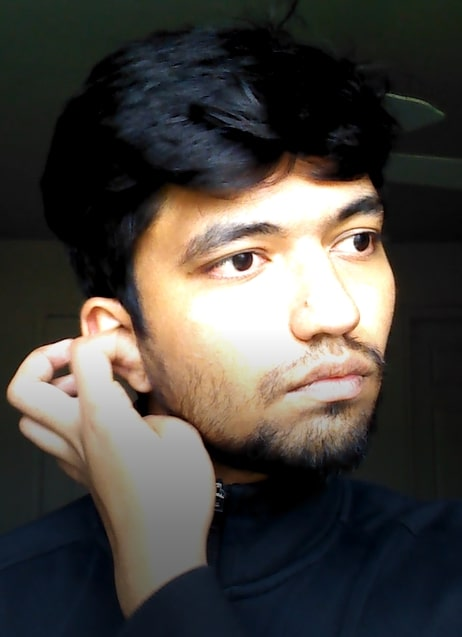Not Sleeping: (169, 198, 403, 293)
